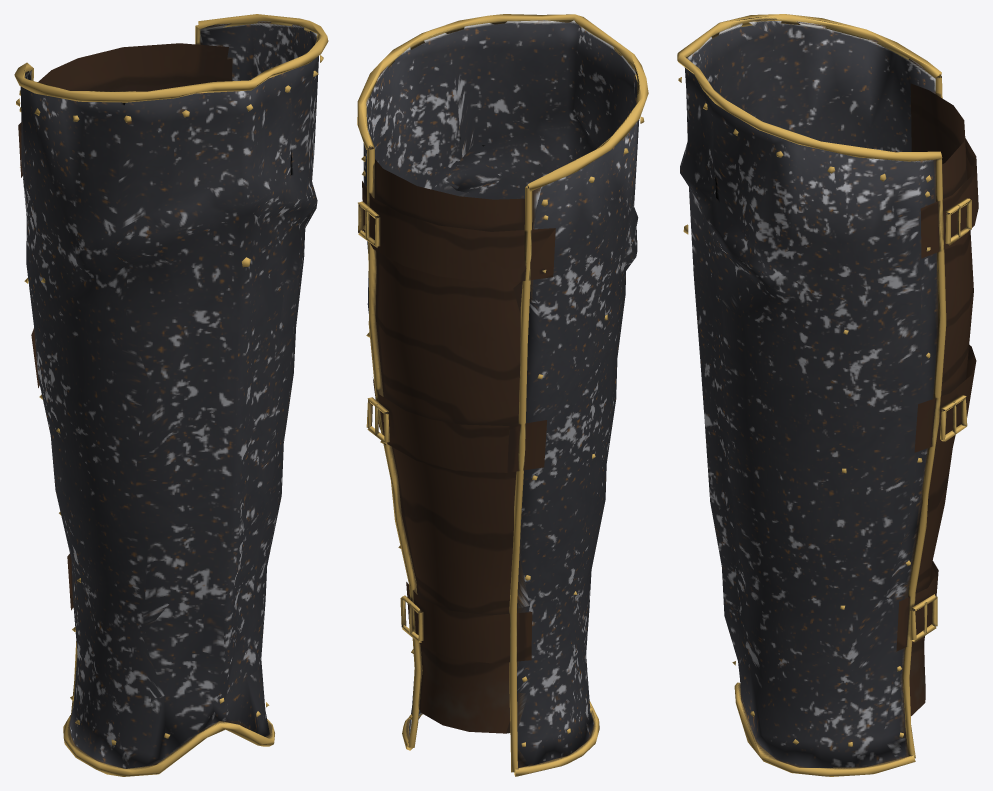
The model's file is SM_EagleGreaves_L_LOD3.fbx.
3 views of the same model, side by side, from view 1: azimuth 30°, elevation 25°; view 2: azimuth 150°, elevation 25°; view 3: azimuth 270°, elevation 25° (orthographic). The views are drawn at different scales.
Parts seen in each view (by area): view 1: SM_EagleGreaves_L_LOD3; view 2: SM_EagleGreaves_L_LOD3; view 3: SM_EagleGreaves_L_LOD3.
Part boxes in pixels (x1,y1,x2,y2): SM_EagleGreaves_L_LOD3: [14, 14, 328, 776]; SM_EagleGreaves_L_LOD3: [357, 14, 648, 776]; SM_EagleGreaves_L_LOD3: [677, 14, 978, 776].
Bounding box in the file's own units: 0.149 × 0.3745 × 0.1499.
